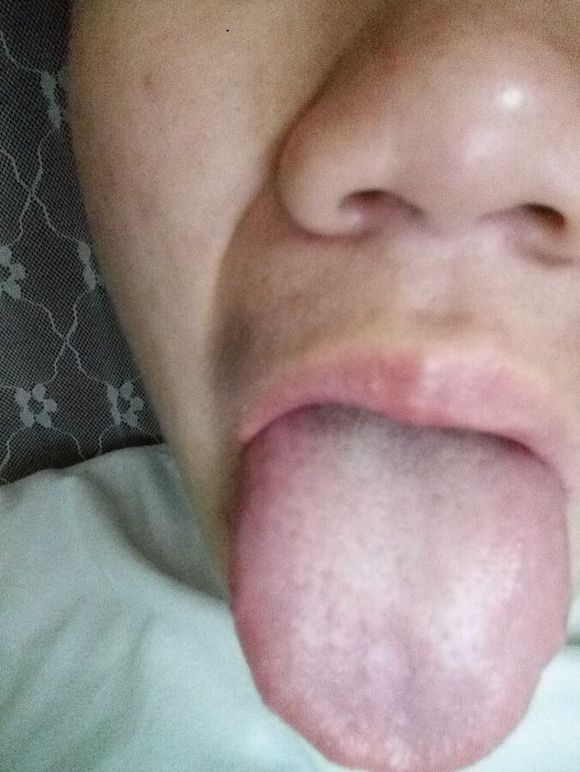baitaishe: (229, 405, 571, 772)
pangdashe: (229, 405, 571, 772)
